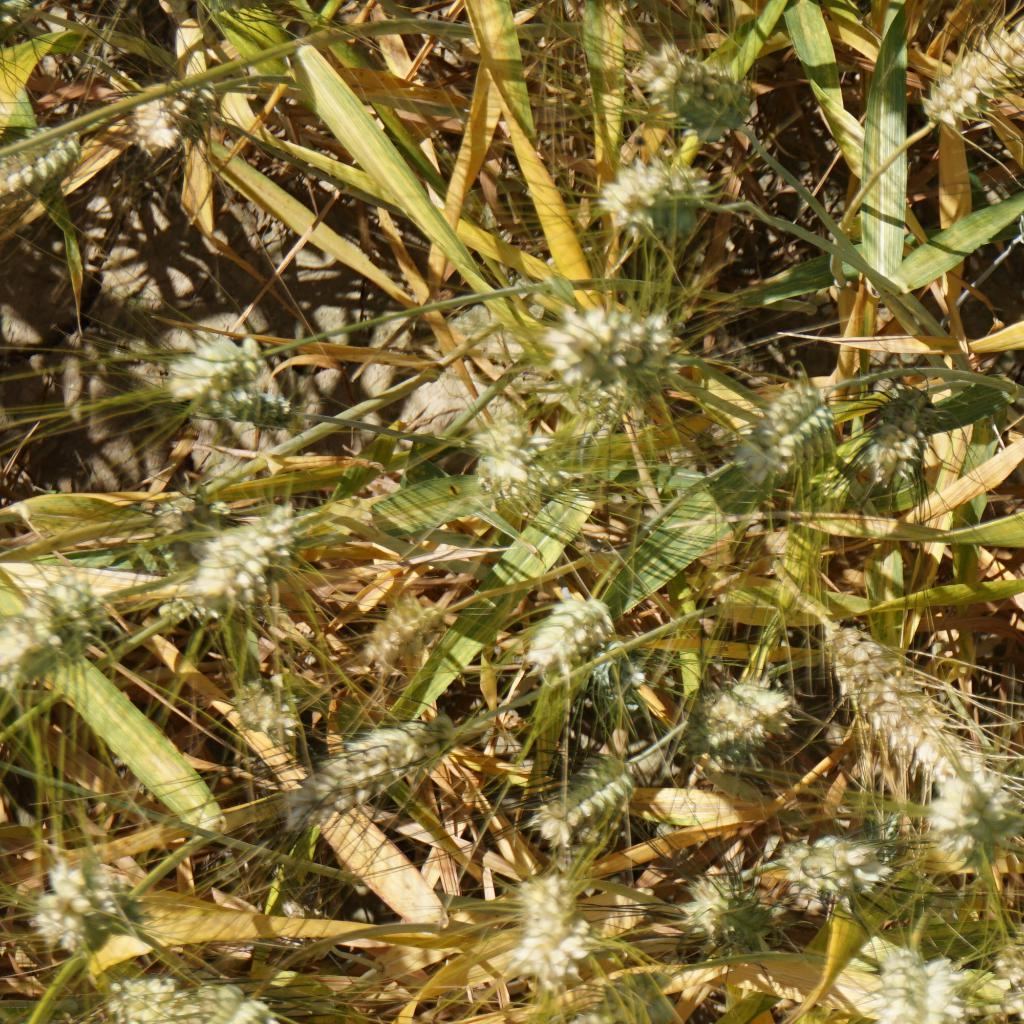0-0: (828, 622, 942, 774), (0, 576, 110, 706), (25, 855, 137, 959), (633, 43, 755, 138), (921, 24, 1024, 128), (302, 716, 430, 798), (548, 313, 683, 390), (499, 868, 582, 989), (926, 751, 1013, 862), (601, 141, 704, 230), (189, 516, 286, 603), (0, 120, 89, 214), (742, 385, 834, 474), (117, 72, 212, 158), (855, 385, 926, 487), (780, 831, 883, 899), (685, 867, 774, 942), (542, 757, 620, 840), (701, 681, 787, 755), (473, 415, 539, 508), (358, 591, 430, 676), (528, 590, 603, 668), (878, 957, 959, 1024), (188, 385, 301, 432), (128, 474, 204, 543), (230, 674, 302, 745), (162, 332, 254, 380), (570, 376, 649, 430), (103, 972, 176, 1024), (558, 987, 652, 1024), (171, 989, 269, 1024), (1001, 945, 1024, 1007)
